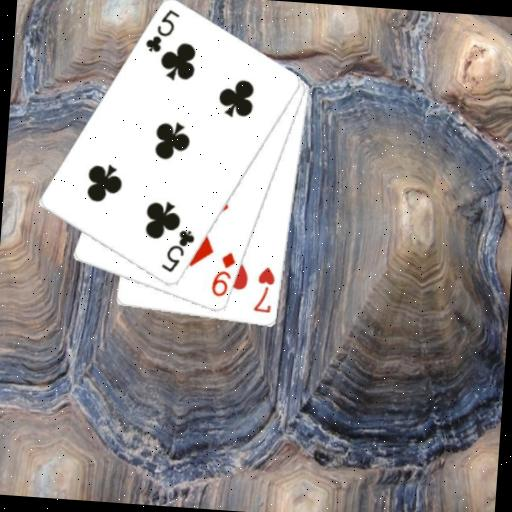5C: (142, 5, 182, 56), (158, 226, 198, 276)
7H: (251, 263, 278, 316)
9D: (208, 248, 238, 300)
